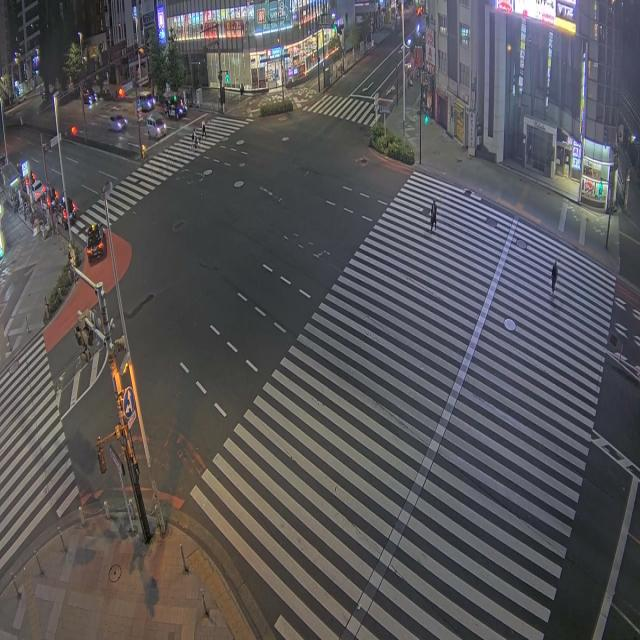car: (86, 224, 105, 262), (165, 96, 187, 119), (54, 192, 68, 228), (55, 204, 68, 229), (32, 180, 46, 202), (109, 115, 127, 132), (83, 89, 96, 105), (68, 198, 77, 218)
van: (146, 114, 166, 138), (137, 92, 155, 112)
